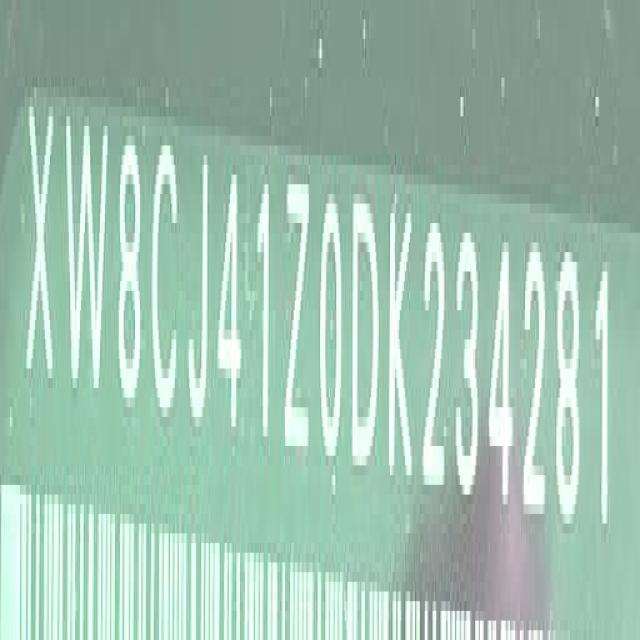0: (317, 198, 343, 474)
1: (594, 240, 616, 556), (254, 180, 272, 456)
2: (420, 208, 448, 499), (522, 237, 550, 528)
3: (455, 219, 483, 514)
4: (486, 226, 516, 510), (216, 169, 246, 452)
8: (552, 244, 585, 535), (118, 129, 142, 417)
C: (150, 126, 180, 431)
D: (345, 180, 382, 488)
J: (186, 133, 214, 463)
K: (385, 190, 415, 482)
W: (64, 104, 110, 402)
X: (26, 100, 56, 423)
Z: (283, 169, 313, 474)
